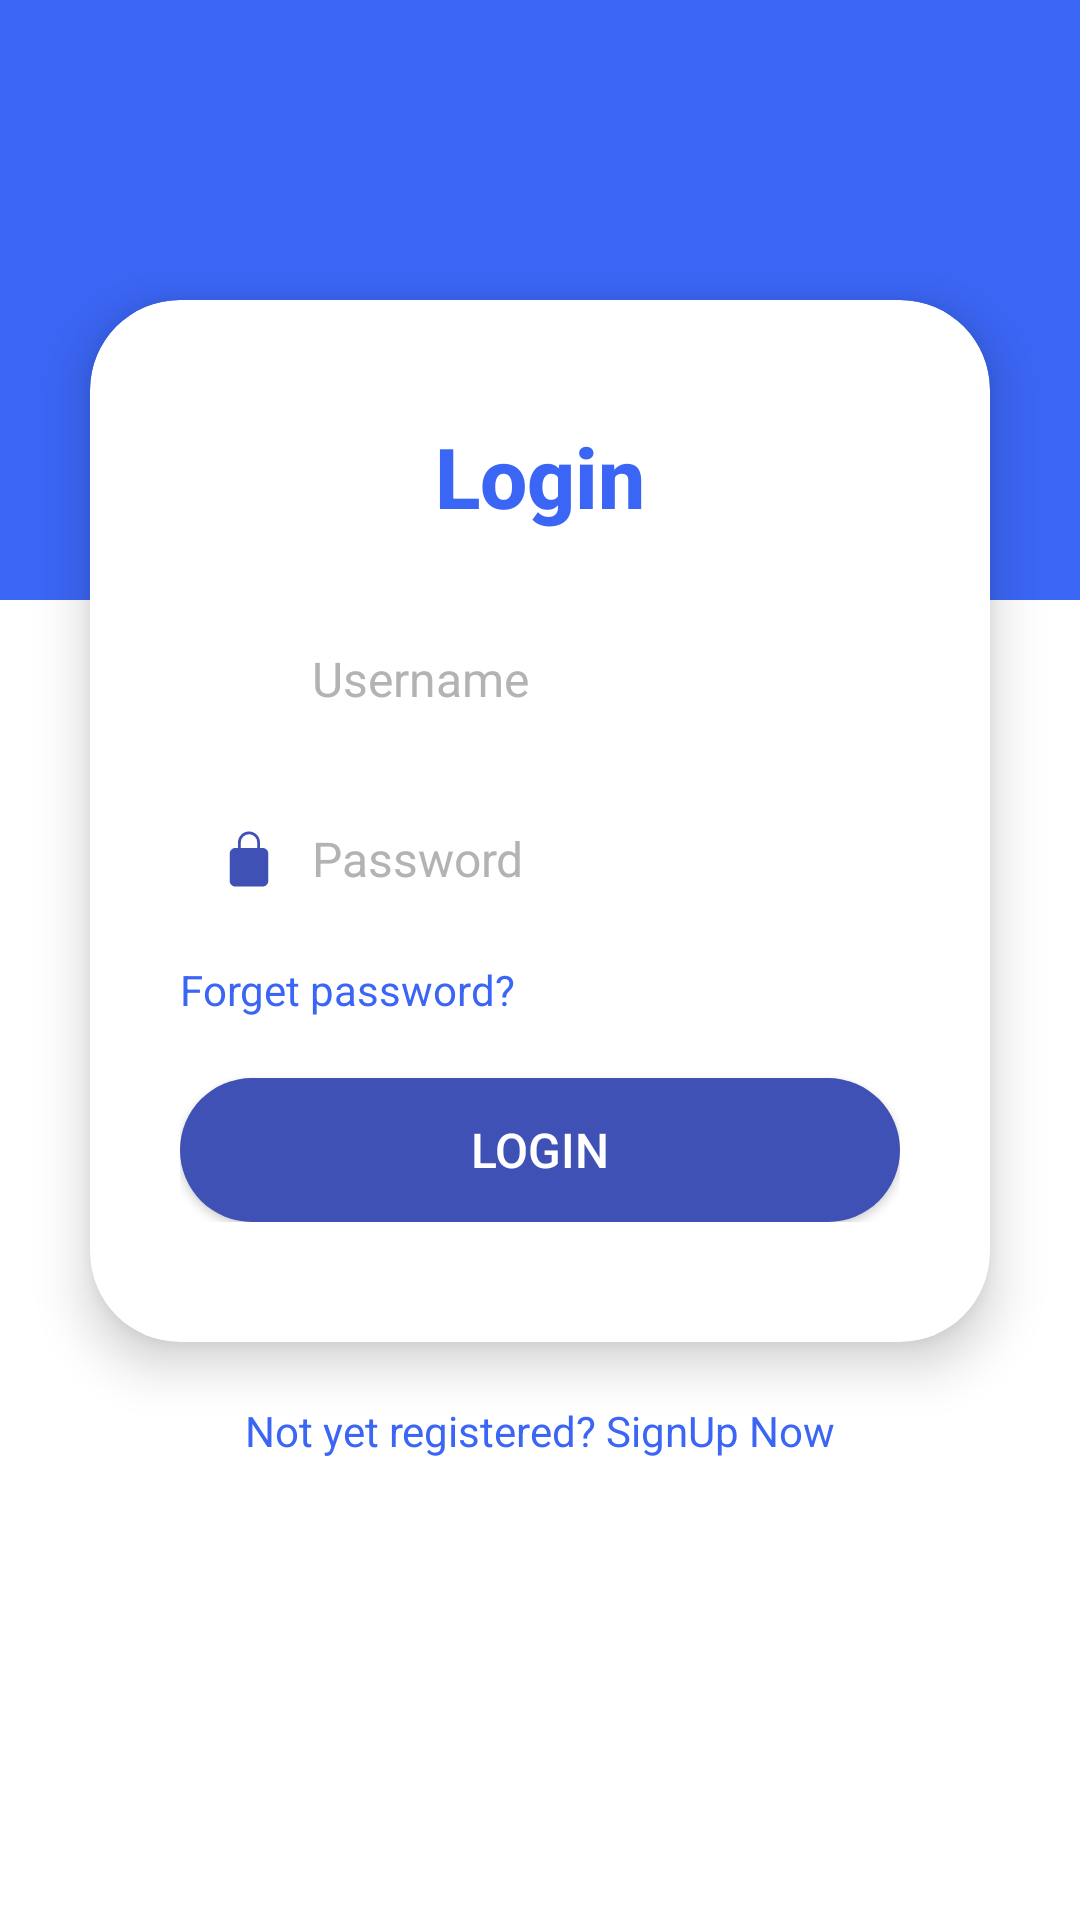

Icons on this 1080×1920 Android screen, each with the point to tap as (x=x, y=y):
lock: (x=249, y=859)
